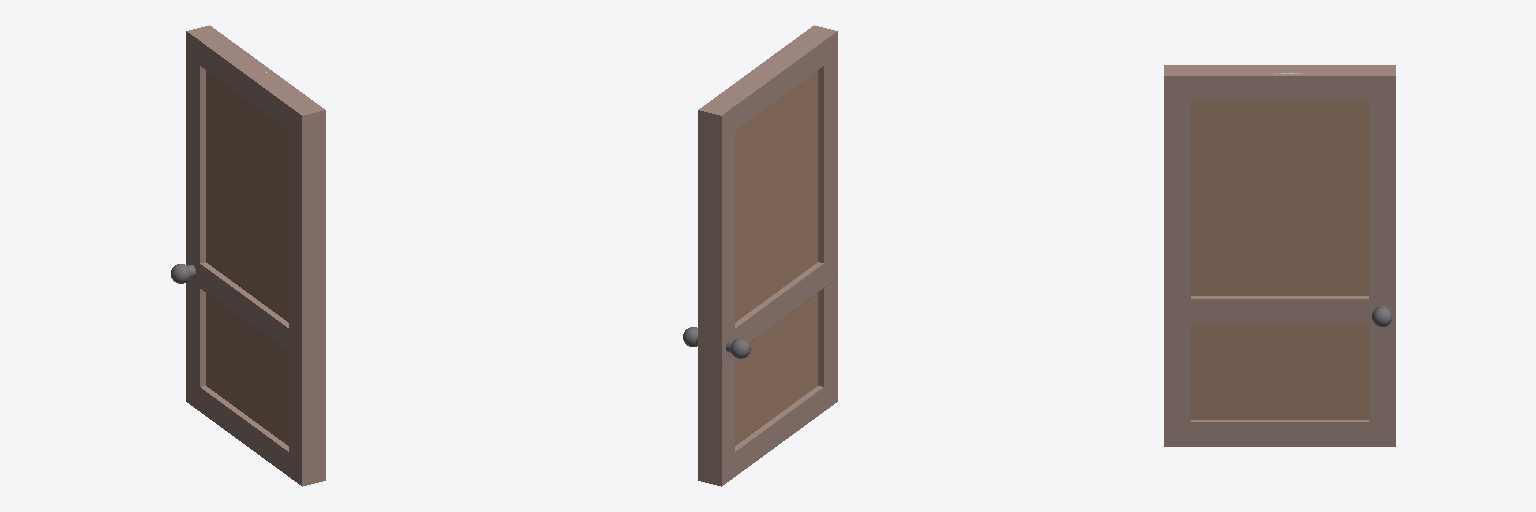
3 renders of one model, left to right at view 1: azimuth 30°, elevation 25°; view 2: azimuth 150°, elevation 25°; view 3: azimuth 270°, elevation 25°, orthographic.
Parts seen in each view (by area): view 1: Cube; view 2: Cube; view 3: Cube.
Boxes of the visible parts, box(x1,y1,x2,y2) form: Cube: box(171, 25, 325, 486); Cube: box(683, 25, 837, 486); Cube: box(1164, 65, 1395, 446).
Bounding box in the file's own units: 1.1 × 6 × 3.4.
Materials: 1 (1 with a texture image).